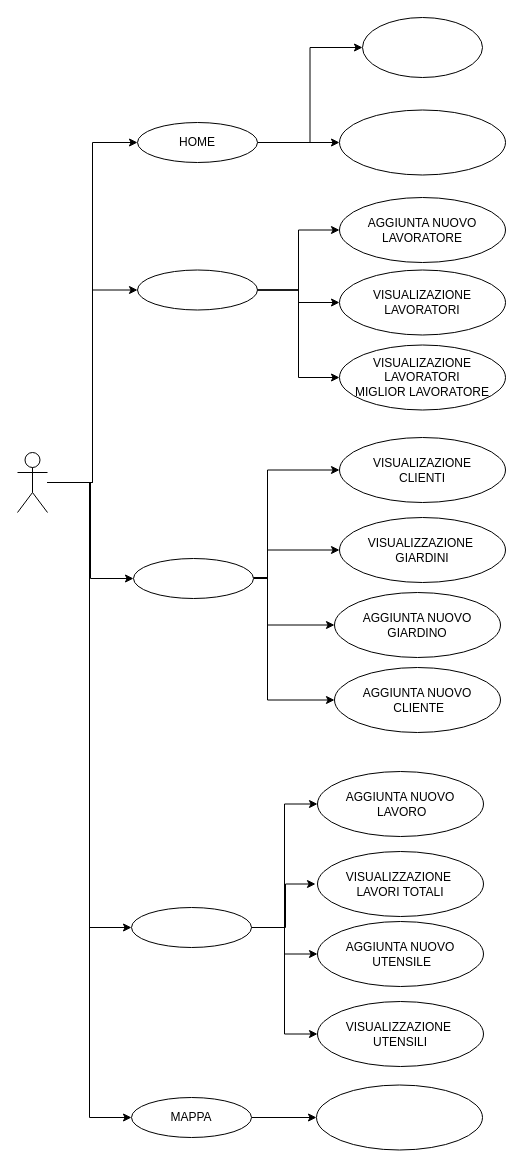
Some shapes in this 523 by 1168 pixel diagram are drawn without their labels. The centre of each missing label's shape, as x and y in pixels:
"Actor" belongs at point (32, 482).
"CLIENTI" belongs at point (193, 578).
"LAVORATORI" belongs at point (197, 289).
"LAVORI" belongs at point (191, 927).
"VISUALIZZAZIONE COMMENTI" belongs at point (422, 47).
"VISUALIZZAZIONE ELENCO LAVORI FUTURI" belongs at point (422, 142).
"VISUALIZZAZIONE MAPPA" belongs at point (399, 1117).
